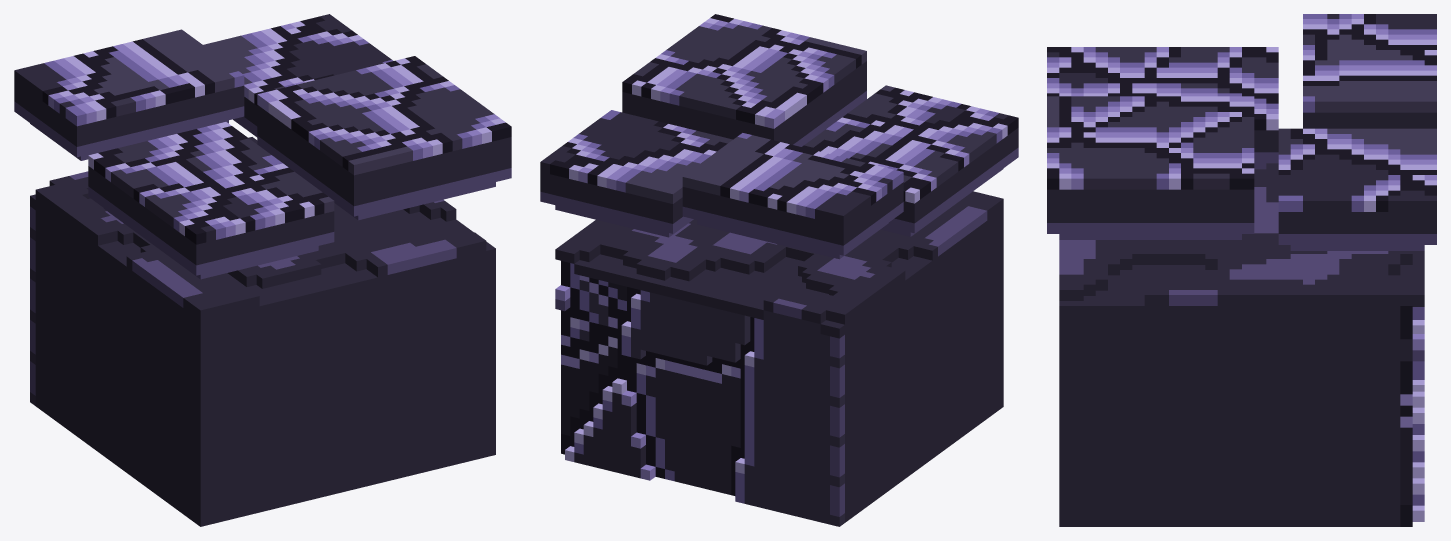
The model's file is Wall_C4_C.obj.
3 views of the same model, side by side, from view 1: azimuth 30°, elevation 25°; view 2: azimuth 150°, elevation 25°; view 3: azimuth 270°, elevation 25° (orthographic). The views are drawn at different scales.
Parts seen in each view (by area): view 1: Wall_C4_C; view 2: Wall_C4_C; view 3: Wall_C4_C.
Part boxes in pixels (box(x1,y1,x2,y2)): Wall_C4_C: box(14, 14, 511, 526); Wall_C4_C: box(540, 14, 1018, 526); Wall_C4_C: box(1047, 14, 1436, 526).
Size of the model in its own units: 3.2 by 3.2 by 3.2.
Materials: 1 (1 with a texture image).
